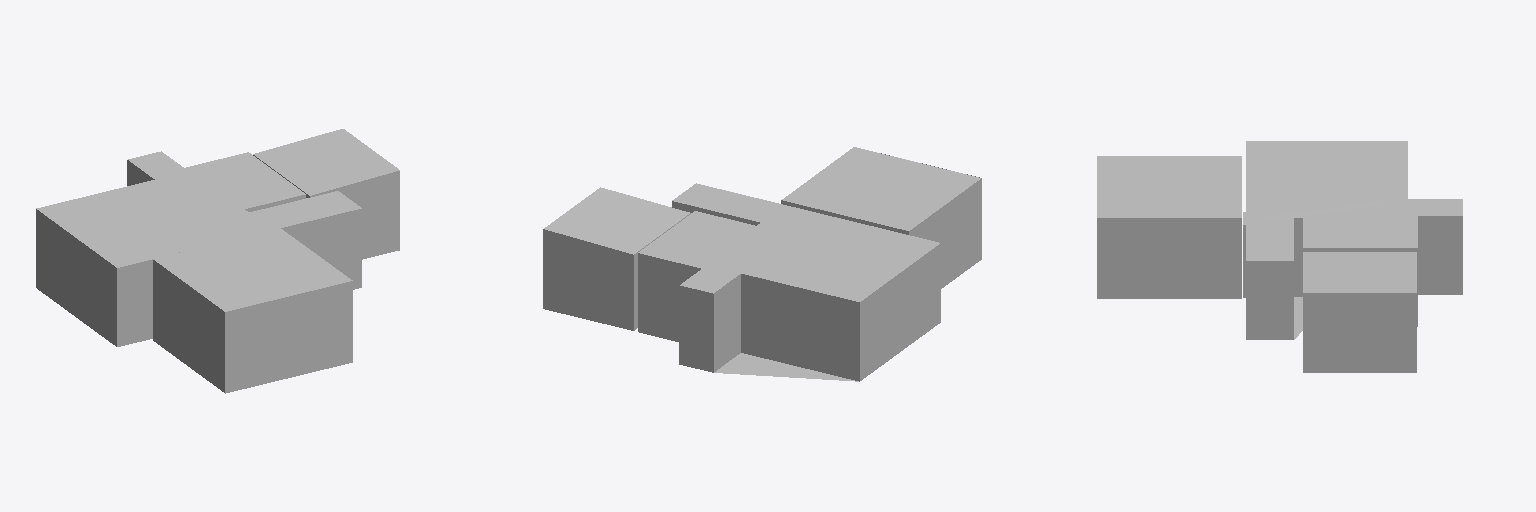
File: house.obj
3 renders of one model, left to right at view 1: azimuth 30°, elevation 25°; view 2: azimuth 150°, elevation 25°; view 3: azimuth 270°, elevation 25°, orthographic.
Parts seen in each view (by area): view 1: Plane; view 2: Plane; view 3: Plane.
Part boxes in pixels (left/top/right/bottom): Plane: left=36, top=129, right=399, bottom=393; Plane: left=543, top=147, right=981, bottom=381; Plane: left=1097, top=141, right=1462, bottom=372.
Bounding box in the file's own units: 8.89 × 2.22 × 9.04.